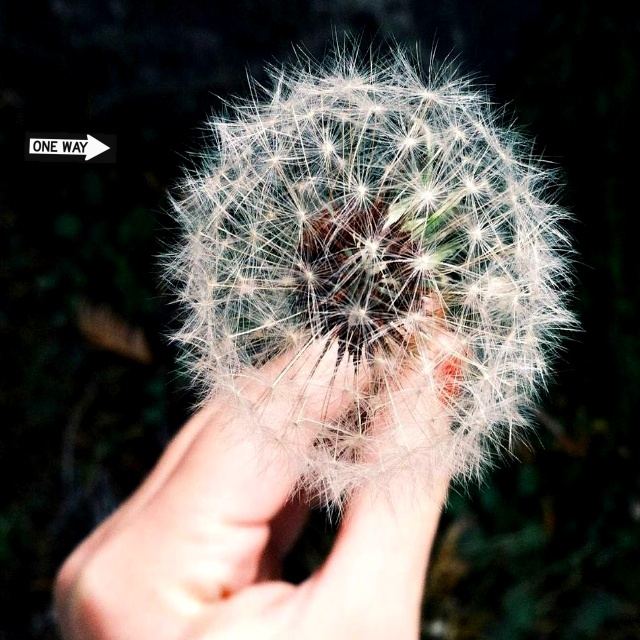ONE_WAY_ right: (23, 131, 117, 163)
